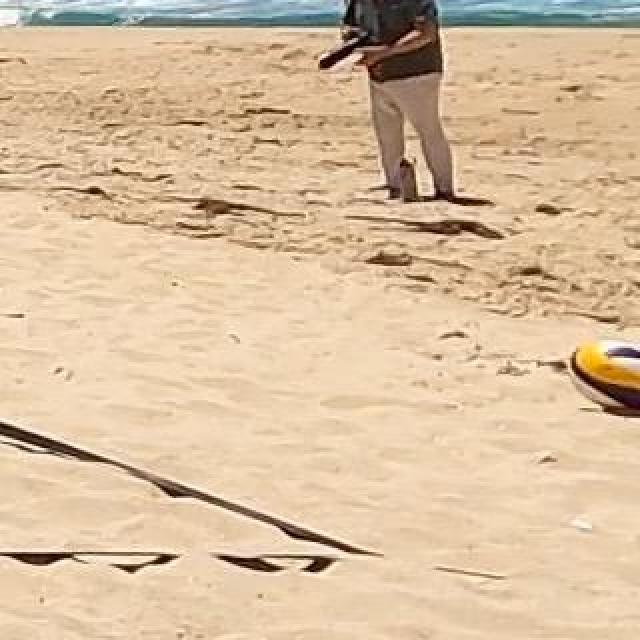volleyball: (570, 333, 640, 415)
